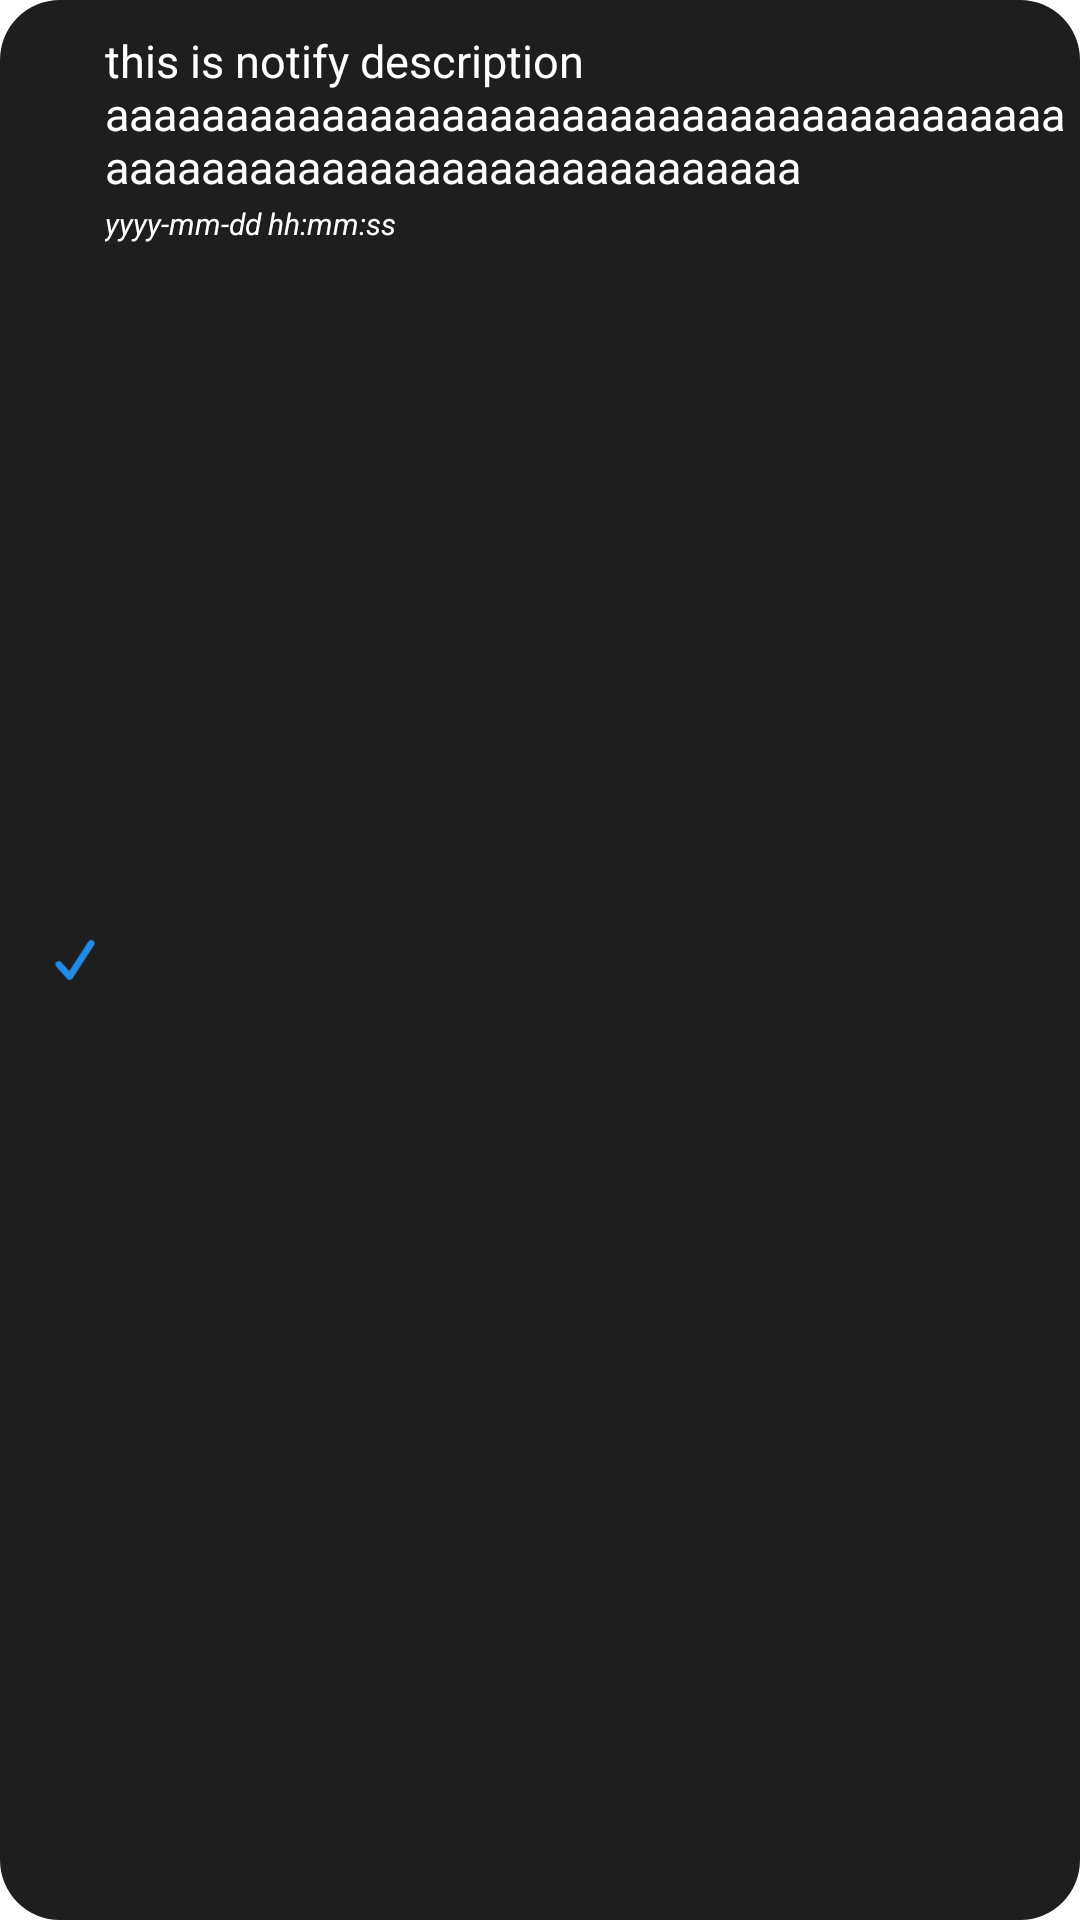

Screen size 1080×1920. Icon name, then its box in pixels as (x1, y1, x2, y2):
checked: (55, 939, 95, 981)
